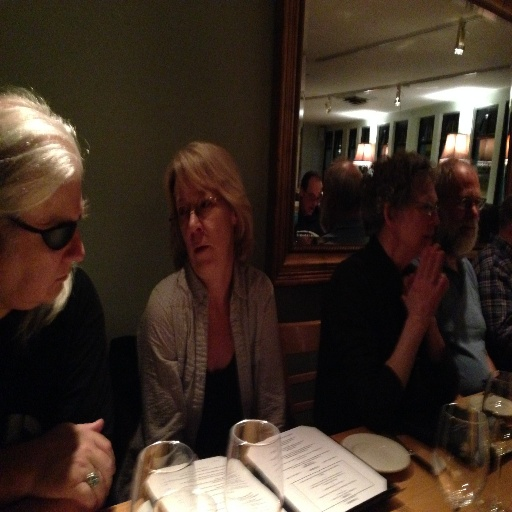hand: (19, 417, 123, 499), (404, 245, 446, 324), (407, 246, 446, 317)
